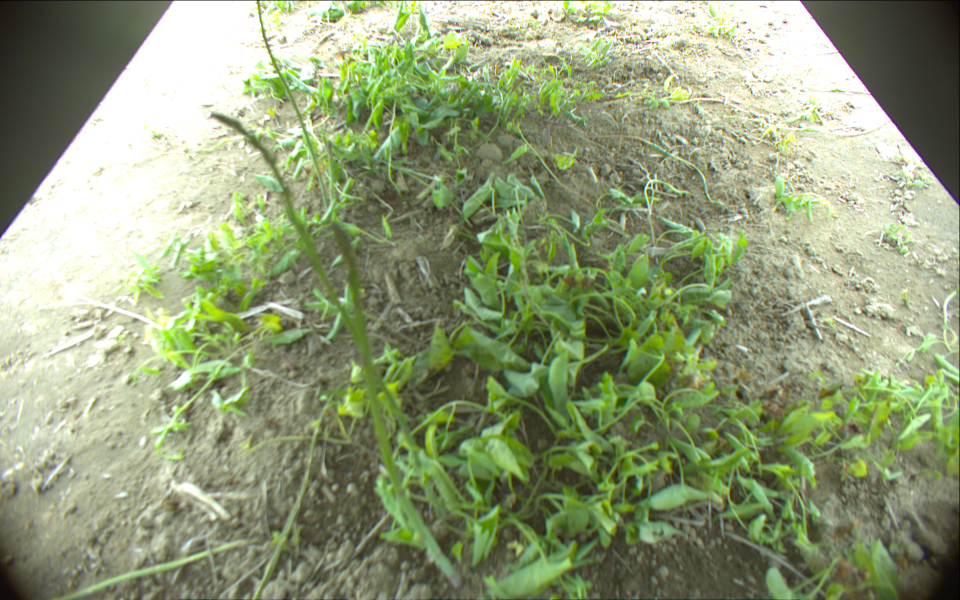aspa: (205, 104, 423, 461), (334, 222, 465, 585), (252, 1, 333, 213), (55, 534, 257, 600)
